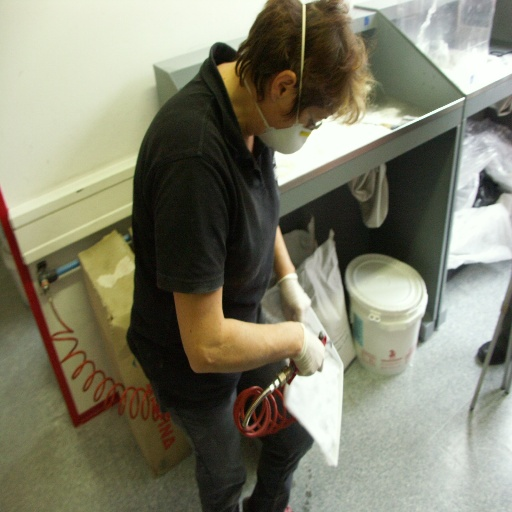hand: (291, 317, 326, 378), (279, 280, 312, 322)
